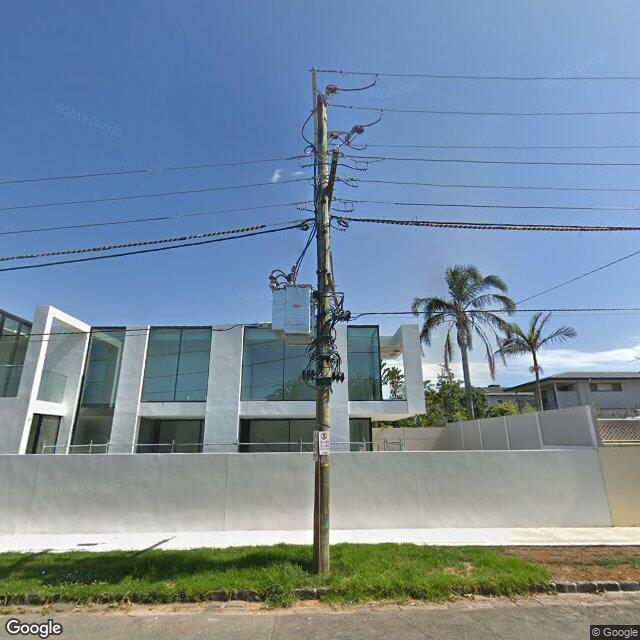HV-transmission: (302, 67, 384, 149)
crossarm: (328, 148, 339, 207), (312, 67, 318, 151)
timber-pole: (314, 94, 332, 574)
transformer: (269, 269, 317, 345)
